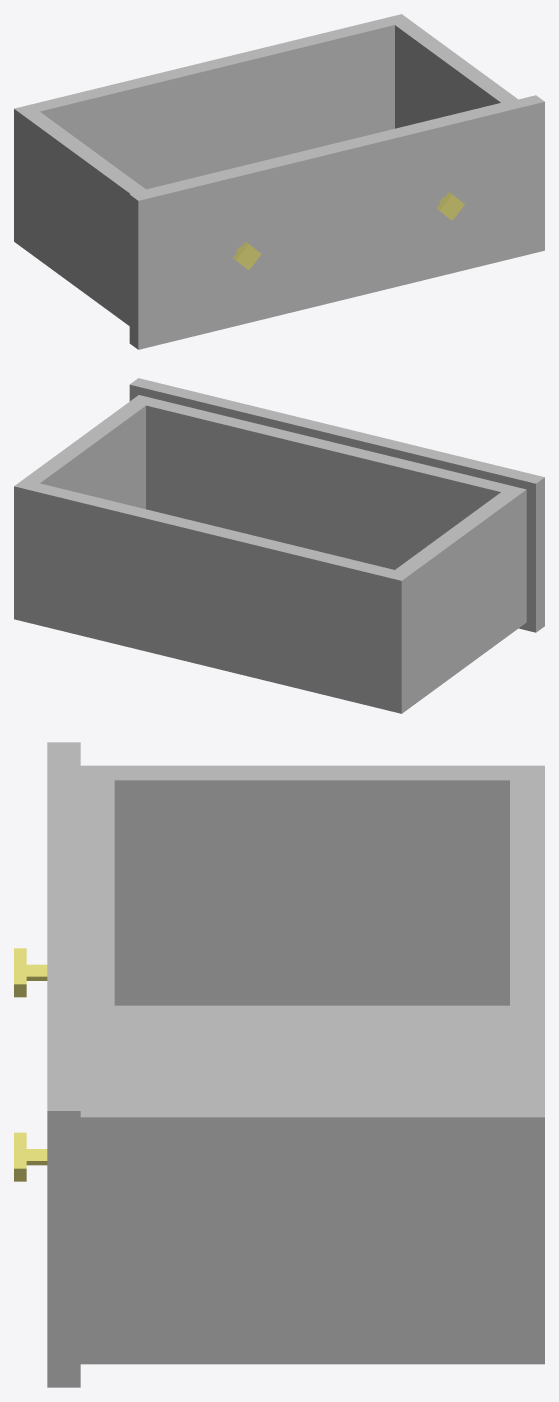
Rendered from Itr_Wardrobe3_Drawer_06.FBX.
3 renders of one model, top to bottom at view 1: azimuth 30°, elevation 25°; view 2: azimuth 150°, elevation 25°; view 3: azimuth 270°, elevation 25°, orthographic. The views are drawn at different scales.
Parts seen in each view (by area): view 1: Itr_Wardrobe3_Drawer_06; view 2: Itr_Wardrobe3_Drawer_06; view 3: Itr_Wardrobe3_Drawer_06.
Boxes of the visible parts, x1,y1,x2,y2 form: Itr_Wardrobe3_Drawer_06: [14, 14, 544, 349]; Itr_Wardrobe3_Drawer_06: [14, 378, 544, 713]; Itr_Wardrobe3_Drawer_06: [14, 742, 544, 1387].
Size of the model in its own units: 40.83 by 14.3 by 24.85.
